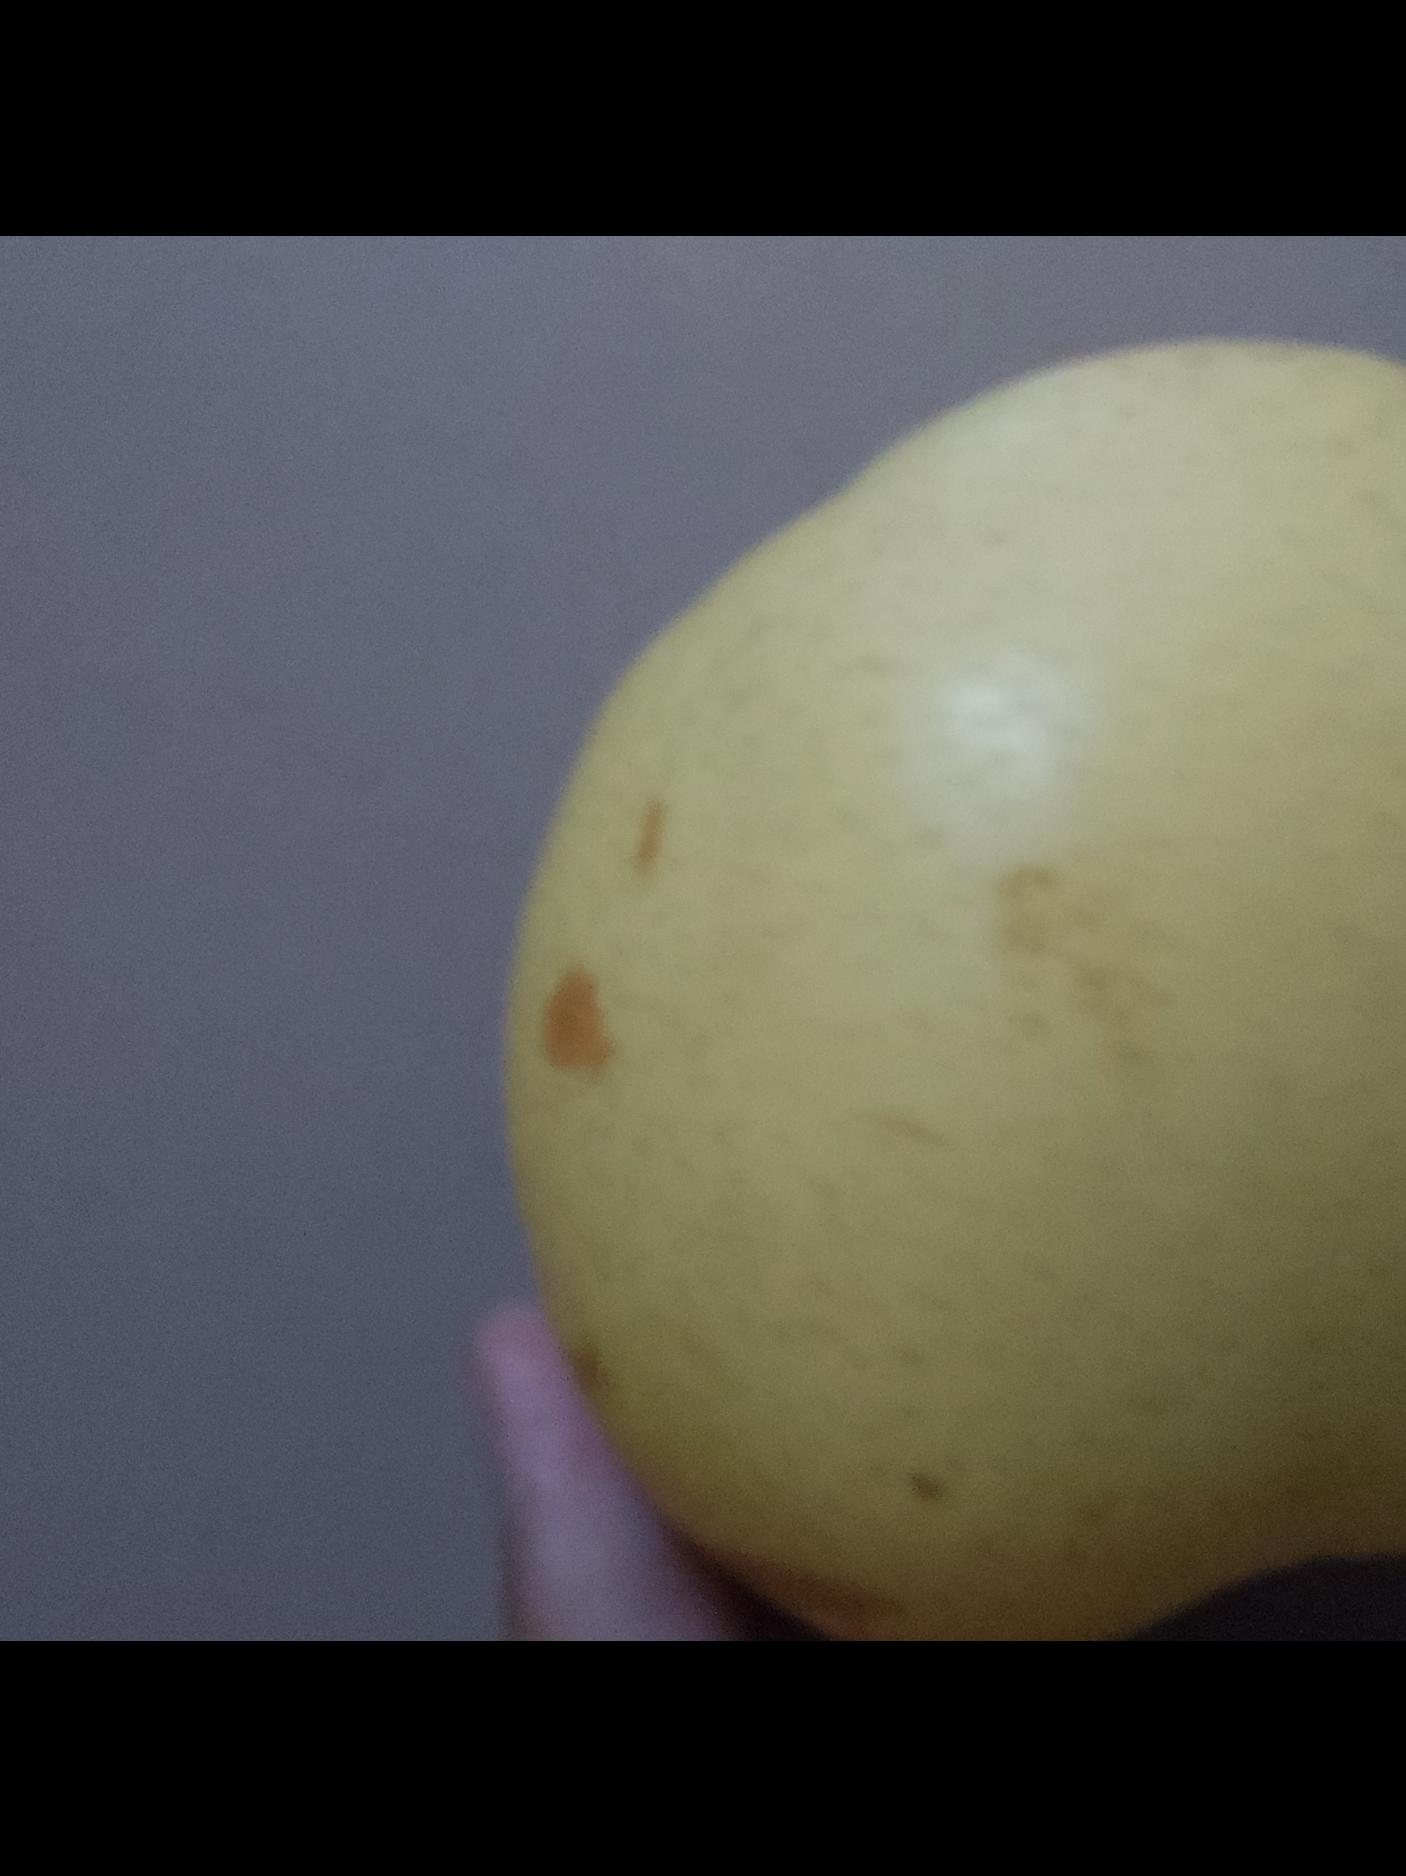Good Pear: (500, 235, 1406, 1641)
